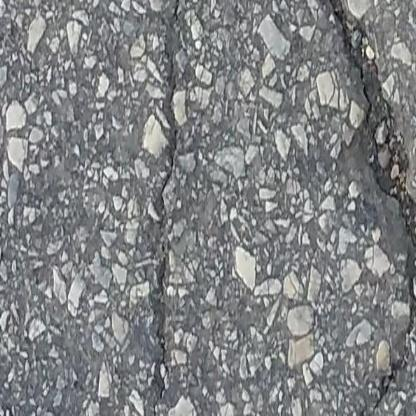Cracks: (312, 0, 416, 416), (137, 0, 190, 416)
